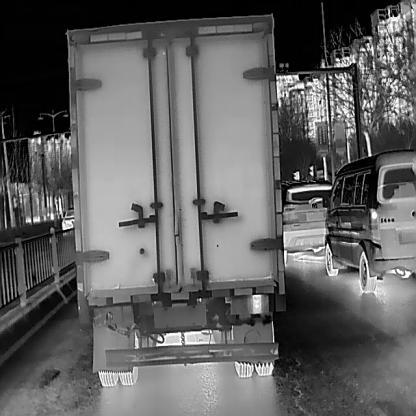car: (64, 11, 286, 386), (322, 147, 415, 293), (281, 180, 333, 264), (60, 206, 73, 235)
